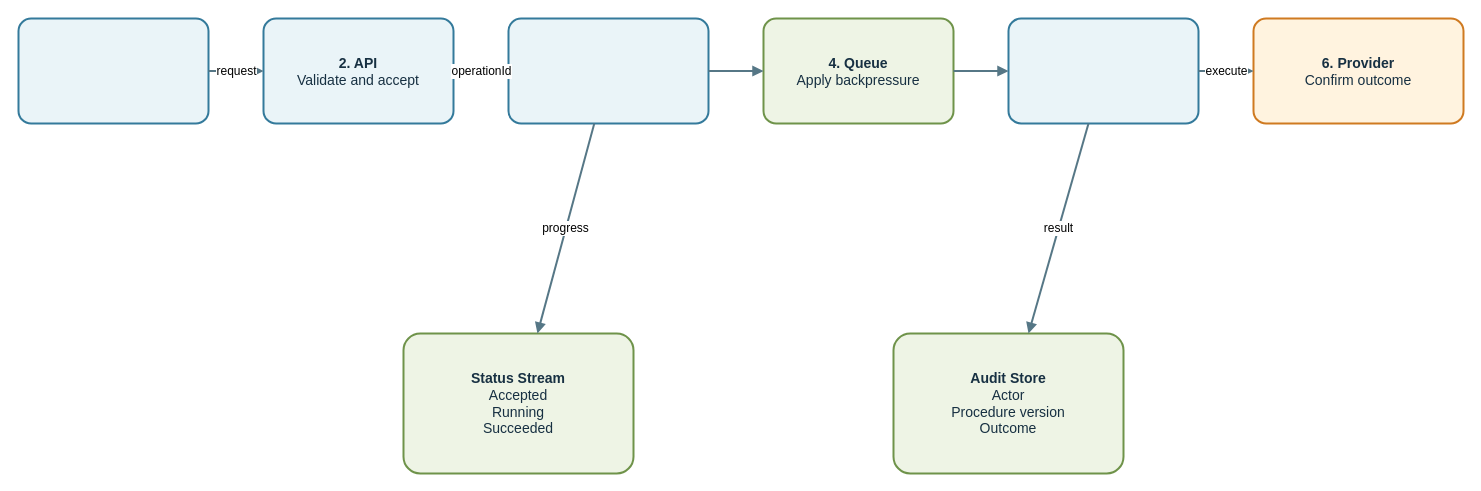
This 1481x491 diagram has some shape labels left out. Here are the shapes that lost their labels. From the top down, the box of each, then its label:
(17, 17, 209, 124): 1. Client Create operation
(507, 17, 709, 124): 3. Workflow Resolve procedure
(1007, 17, 1199, 124): 5. Worker Execute steps
